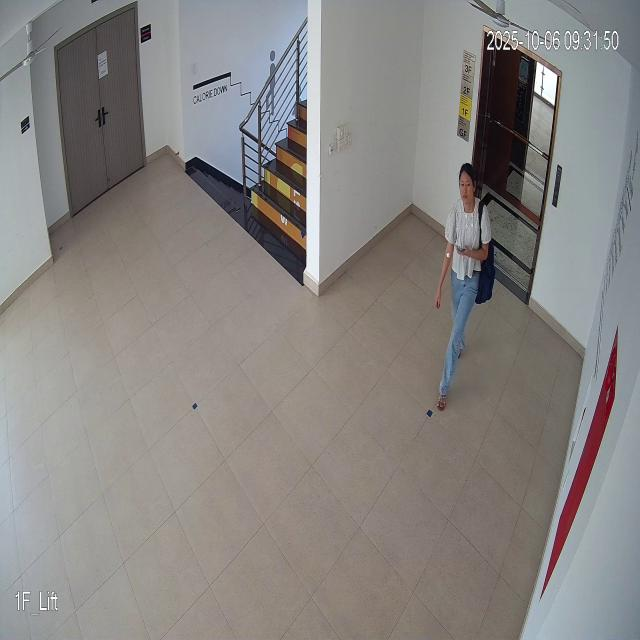face: (452, 150, 485, 216)
